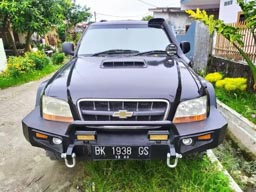plat: (92, 145, 148, 154)
